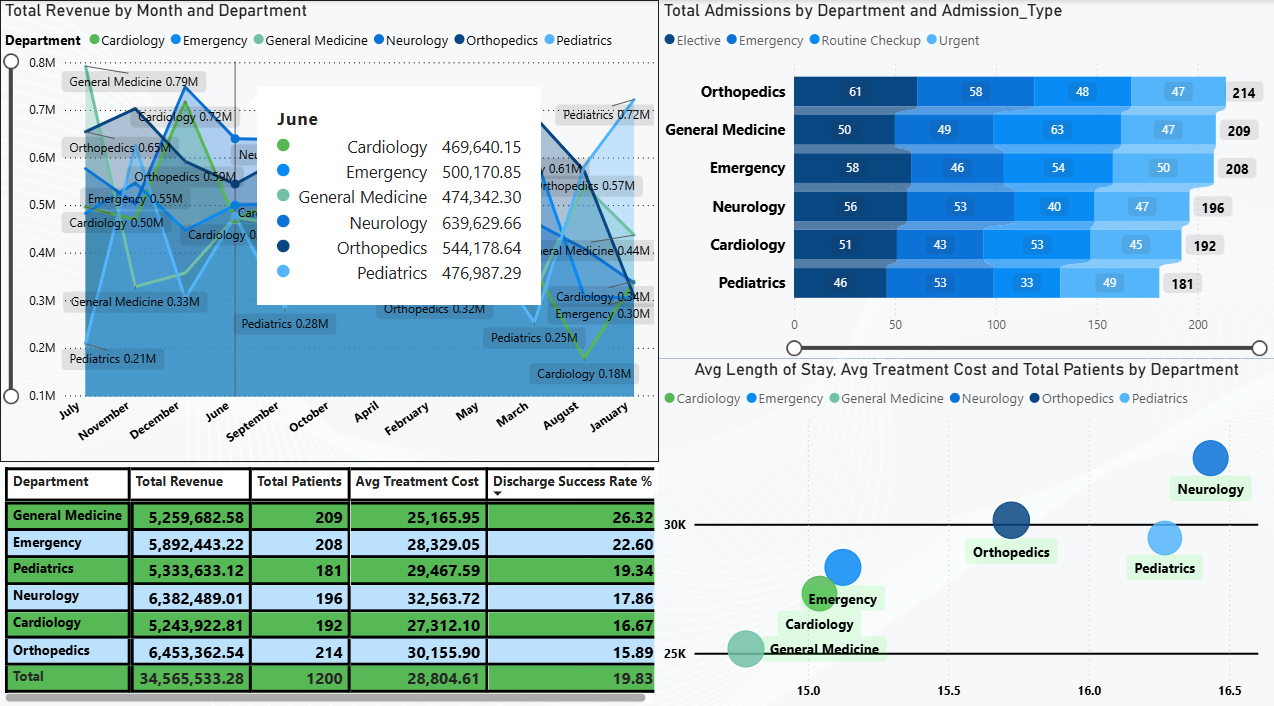

The page's visual inventory and layout, read from the dashboard file:
{"tool":"powerbi","page":{"name":"Page 4","canvas":[1280,720],"ordinal":3},"visuals":[{"type":"scatterChart","fields":{"X":["DateTable.Avg Length of Stay"],"Y":["DateTable.Avg Treatment Cost"],"Series":["hospital_patient_data_clean.Department"],"Size":["DateTable.Total Patients"]},"box":[661.8,360.2,618.2,351.5],"z":0},{"type":"barChart","fields":{"Category":["hospital_patient_data_clean.Department"],"Y":["DateTable.Total Admissions"],"Series":["hospital_patient_data_clean.Admission_Type"]},"box":[661.8,0,618.2,360.2],"z":1000},{"type":"lineChart","fields":{"Category":["DateTable.Month"],"Y":["DateTable.Total Revenue"],"Series":["hospital_patient_data_clean.Department"]},"box":[0,0,661.8,464.9],"z":2000},{"type":"pivotTable","fields":{"Rows":["hospital_patient_data_clean.Department"],"Values":["DateTable.Total Revenue","DateTable.Total Patients","DateTable.Avg Treatment Cost","DateTable.Discharge Success Rate %"]},"box":[0,464.9,661.8,245.5],"z":3000}]}

Visuals, with their boxes in screenshot pixels (x1, y1, x2, y2), scaled from the page's 1280x720 canvas onto the 1274x706 screenshot:
scatterChart - DateTable.Avg Length of Stay x DateTable.Avg Treatment Cost: region(659, 353, 1273, 698)
barChart - hospital_patient_data_clean.Department x DateTable.Total Admissions: region(659, 0, 1273, 353)
lineChart - DateTable.Month x DateTable.Total Revenue: region(0, 0, 659, 456)
pivotTable - hospital_patient_data_clean.Department x DateTable.Total Revenue: region(0, 456, 659, 697)
